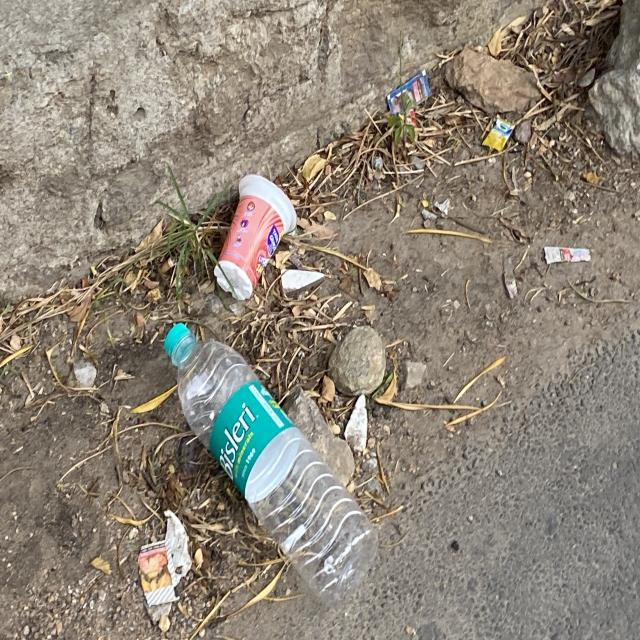paper: (137, 510, 191, 608)
plastic: (164, 323, 378, 605), (214, 173, 297, 300)
wrapper: (387, 69, 432, 113), (483, 116, 516, 150), (545, 246, 592, 264)
